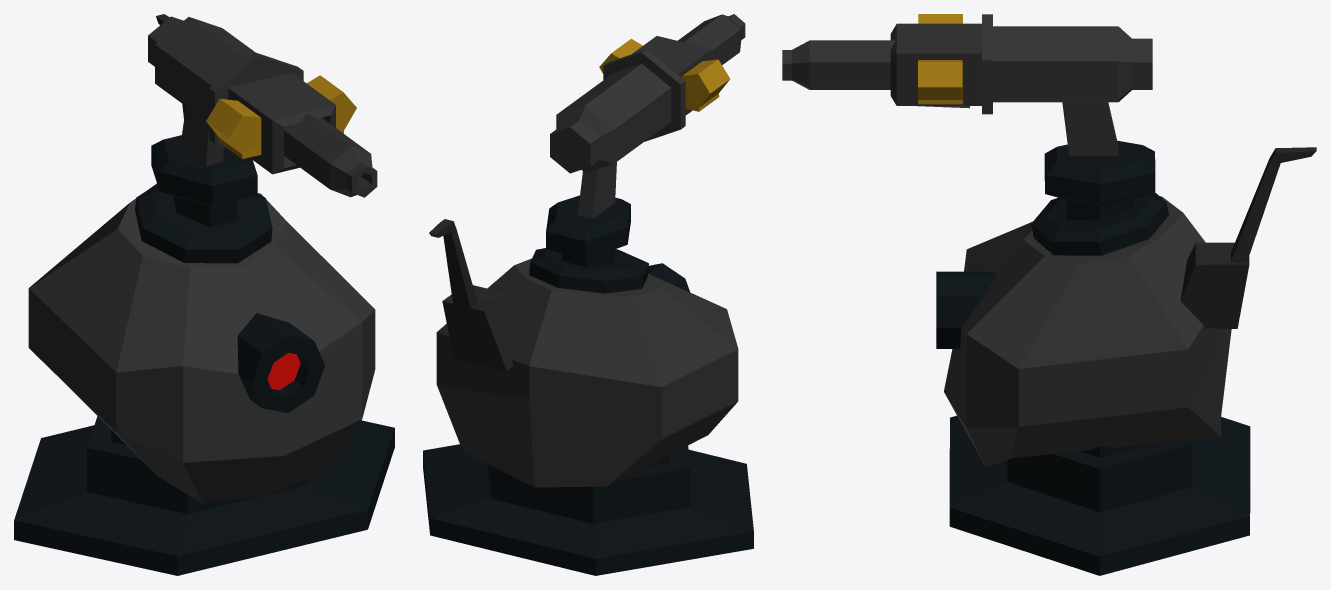
File: mortarEnemy.fbx
3 views of the same model, side by side, from view 1: azimuth 30°, elevation 25°; view 2: azimuth 150°, elevation 25°; view 3: azimuth 270°, elevation 25° (orthographic). The views are drawn at different scales.
Visible parts, largest first — view 1: Cube.001, Cube.002; view 2: Cube.001, Cube.002; view 3: Cube.001, Cube.002.
Boxes of the visible parts, bbox=[...] form: Cube.001: bbox=[14, 14, 394, 575]; Cube.002: bbox=[148, 16, 377, 197]; Cube.001: bbox=[423, 195, 753, 575]; Cube.002: bbox=[550, 14, 745, 218]; Cube.001: bbox=[936, 140, 1316, 575]; Cube.002: bbox=[782, 14, 1152, 155].
Size of the model in its own units: 485 by 601 by 609.
